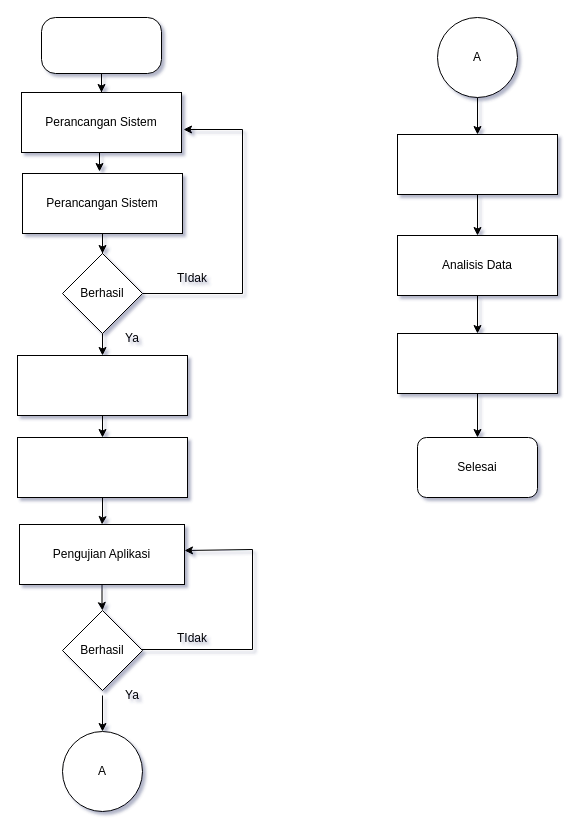
This 581x835 diagram has some shape labels left out. Here are the shapes that lost their labels. From the top down, the box of each, then its label:
(40, 16, 162, 74): Mulai
(396, 134, 558, 194): Pengambilan Data
(396, 332, 558, 394): Kesimpulan
(16, 354, 188, 416): Pembuatan Sistem
(16, 436, 188, 498): Perancangan Aplikasi
